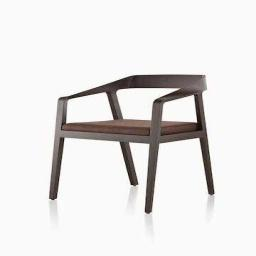Chair: (45, 75, 214, 209)
